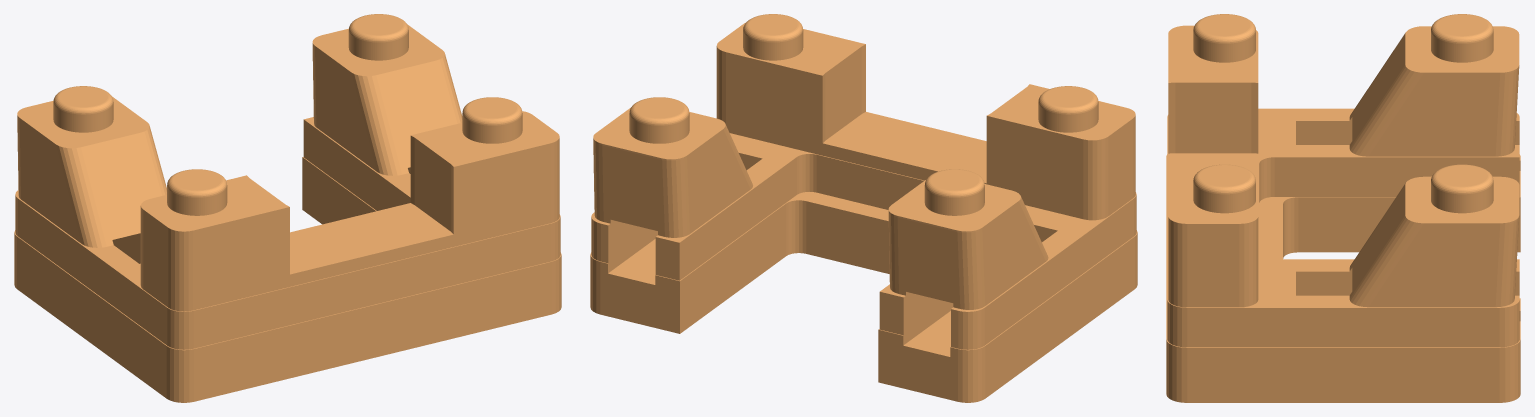
Rendered from kit-windscreen.glb.
3 views of the same model, side by side, from view 1: azimuth 30°, elevation 25°; view 2: azimuth 150°, elevation 25°; view 3: azimuth 270°, elevation 25° (orthographic). The views are drawn at different scales.
Parts seen in each view (by area): view 1: kit-windscreen; view 2: kit-windscreen; view 3: kit-windscreen.
Boxes of the visible parts, x1,y1,x2,y2 form: kit-windscreen: (14, 14, 561, 402); kit-windscreen: (590, 14, 1137, 402); kit-windscreen: (1166, 14, 1520, 402).
Size of the model in its own units: 0.0498 by 0.0235 by 0.0373.
